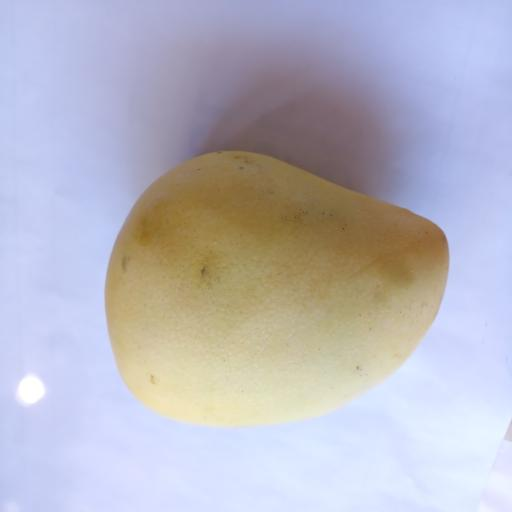mango-ripe: (89, 139, 459, 458)
